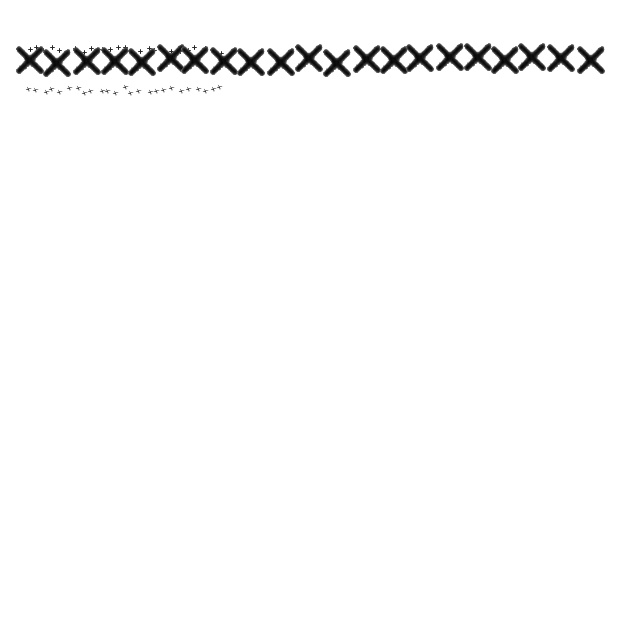double: (13, 41, 47, 77), (40, 44, 74, 80), (70, 42, 104, 78), (98, 42, 132, 78), (125, 43, 159, 79), (154, 39, 188, 75), (178, 41, 212, 77), (207, 42, 241, 78), (234, 43, 268, 79), (264, 43, 298, 79), (292, 39, 326, 75), (320, 44, 354, 80), (350, 40, 384, 76), (377, 41, 411, 77), (403, 39, 437, 75), (433, 38, 467, 74), (461, 38, 495, 74), (488, 41, 522, 77), (515, 38, 549, 74), (544, 39, 578, 75), (574, 41, 608, 77), (32, 87, 40, 93), (48, 86, 56, 92), (56, 89, 64, 95), (66, 85, 74, 91), (104, 88, 112, 94), (112, 90, 120, 96), (122, 84, 130, 90), (160, 87, 168, 93), (168, 85, 176, 91), (178, 88, 186, 94), (202, 88, 210, 94), (210, 86, 218, 92), (216, 84, 224, 90), (64, 50, 70, 56), (82, 50, 88, 56), (152, 48, 158, 54), (162, 48, 168, 54), (186, 48, 192, 54), (212, 50, 218, 56), (26, 86, 32, 92), (44, 89, 50, 95), (76, 85, 82, 91), (82, 90, 88, 96), (88, 88, 94, 94), (100, 88, 106, 94), (128, 90, 134, 96), (136, 88, 142, 94), (148, 89, 154, 95), (154, 88, 160, 94), (186, 86, 192, 92), (196, 86, 202, 92), (28, 48, 34, 52), (34, 46, 40, 50), (42, 48, 46, 54), (50, 46, 56, 50), (58, 48, 62, 54), (74, 46, 78, 52), (90, 46, 94, 52), (100, 48, 106, 52), (108, 48, 114, 52), (116, 46, 122, 50), (138, 50, 144, 54), (148, 46, 152, 52), (178, 50, 184, 54), (192, 46, 198, 50), (204, 46, 208, 52), (124, 46, 128, 50), (130, 50, 134, 54), (170, 50, 174, 54), (220, 52, 224, 56)
